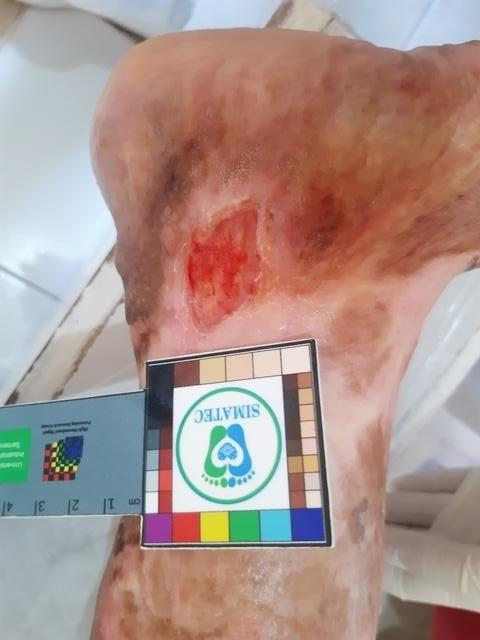wound: (185, 200, 266, 333)
